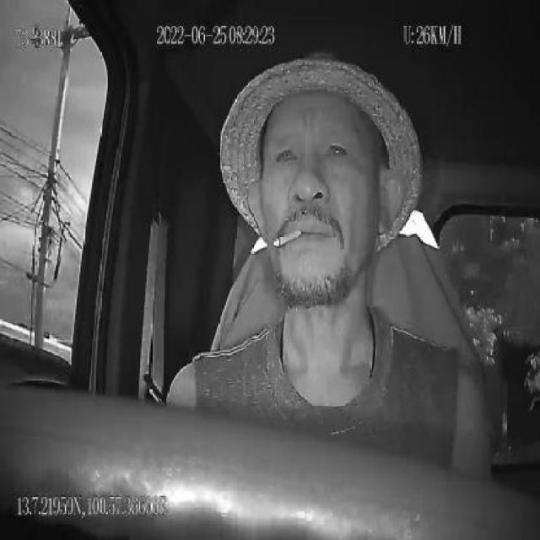smoking: (272, 226, 302, 248)
